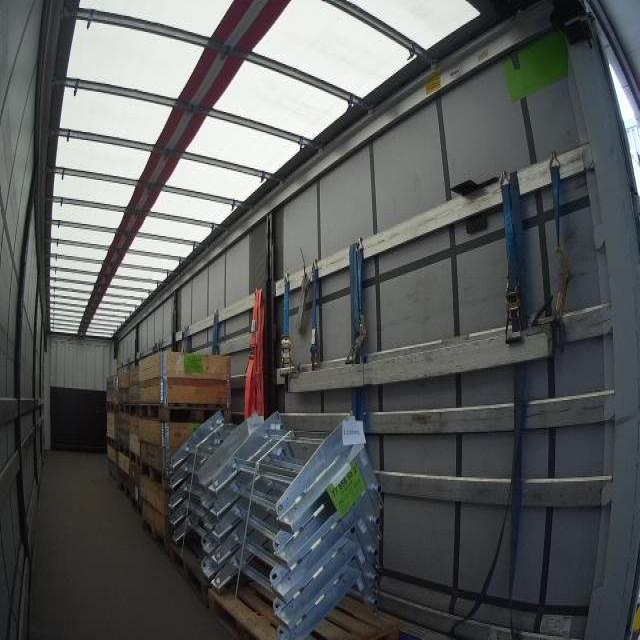pallet: (205, 558, 399, 638), (139, 398, 234, 430), (170, 546, 207, 611), (134, 451, 170, 488), (142, 515, 168, 557), (115, 435, 133, 467), (115, 398, 141, 418), (101, 396, 118, 418), (119, 481, 132, 506), (103, 429, 115, 451), (108, 471, 120, 486)
